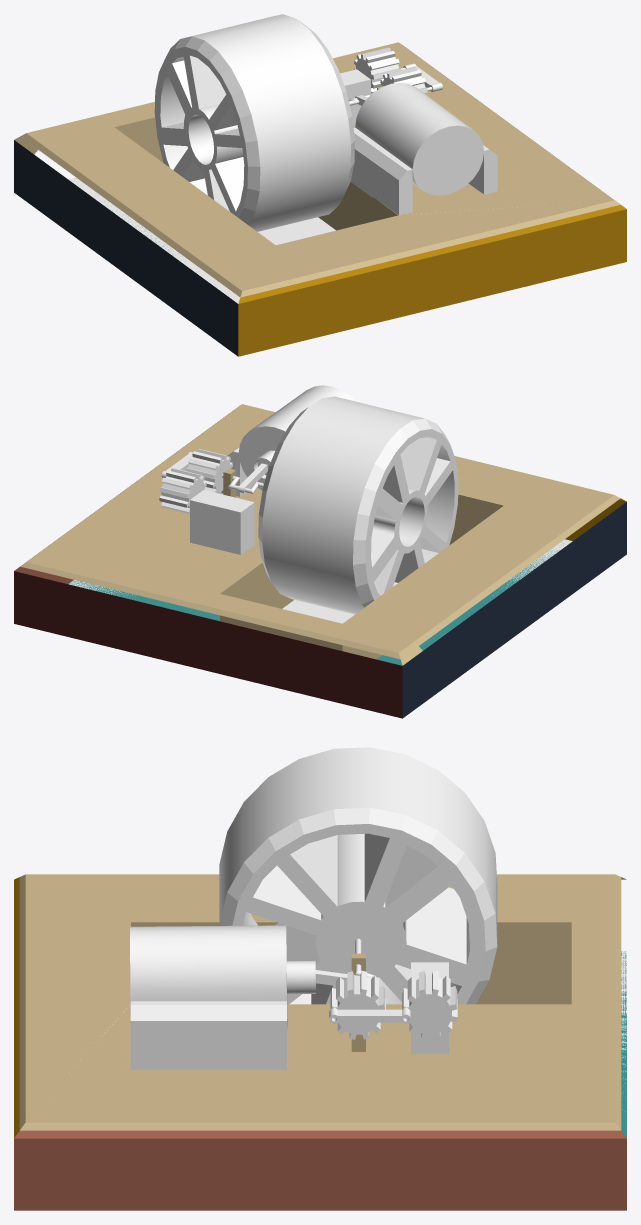
Rendered from engine_kinda_blocky (1).fbx.
The picture shows the model from 3 angles, top to bottom: view 1: azimuth 30°, elevation 25°; view 2: azimuth 150°, elevation 25°; view 3: azimuth 270°, elevation 25°; orthographic projection. The views are drawn at different scales.
Parts seen in each view (by area): view 1: base1, big_wheel1, reservoir1, Group1, lesser_wheel_2_1, just_support1, lesser_wheel_1_1; view 2: base1, big_wheel1, just_support1, reservoir1, Group1, lesser_wheel_2_1, lesser_wheel_1_1, engine_shoulder_1_1, pump1; view 3: base1, big_wheel1, reservoir1, lesser_wheel_2_1, lesser_wheel_1_1, pump1, just_support1, engine_shoulder_2_1, engine_shoulder_1_1.
Part boxes in pixels (<box>): base1: <box>14,42,626,356</box>; big_wheel1: <box>154,14,354,231</box>; reservoir1: <box>350,82,497,215</box>; Group1: <box>68,177,502,303</box>; lesser_wheel_2_1: <box>354,47,401,93</box>; just_support1: <box>340,69,370,126</box>; lesser_wheel_1_1: <box>380,67,427,93</box>; base1: <box>14,404,626,718</box>; big_wheel1: <box>258,396,458,614</box>; just_support1: <box>190,490,254,554</box>; reservoir1: <box>227,385,355,496</box>; Group1: <box>69,539,572,623</box>; lesser_wheel_2_1: <box>159,468,206,514</box>; lesser_wheel_1_1: <box>186,449,232,493</box>; engine_shoulder_1_1: <box>222,468,264,497</box>; pump1: <box>240,450,275,488</box>; base1: <box>14,874,626,1210</box>; big_wheel1: <box>219,747,497,1004</box>; reservoir1: <box>130,925,287,1070</box>; lesser_wheel_2_1: <box>402,970,457,1039</box>; lesser_wheel_1_1: <box>330,970,385,1039</box>; pump1: <box>286,961,371,993</box>; just_support1: <box>411,962,448,1054</box>; engine_shoulder_2_1: <box>329,1007,410,1023</box>; engine_shoulder_1_1: <box>351,938,374,1051</box>.
Bounding box in the file's own units: 2 × 0.9692 × 2.
